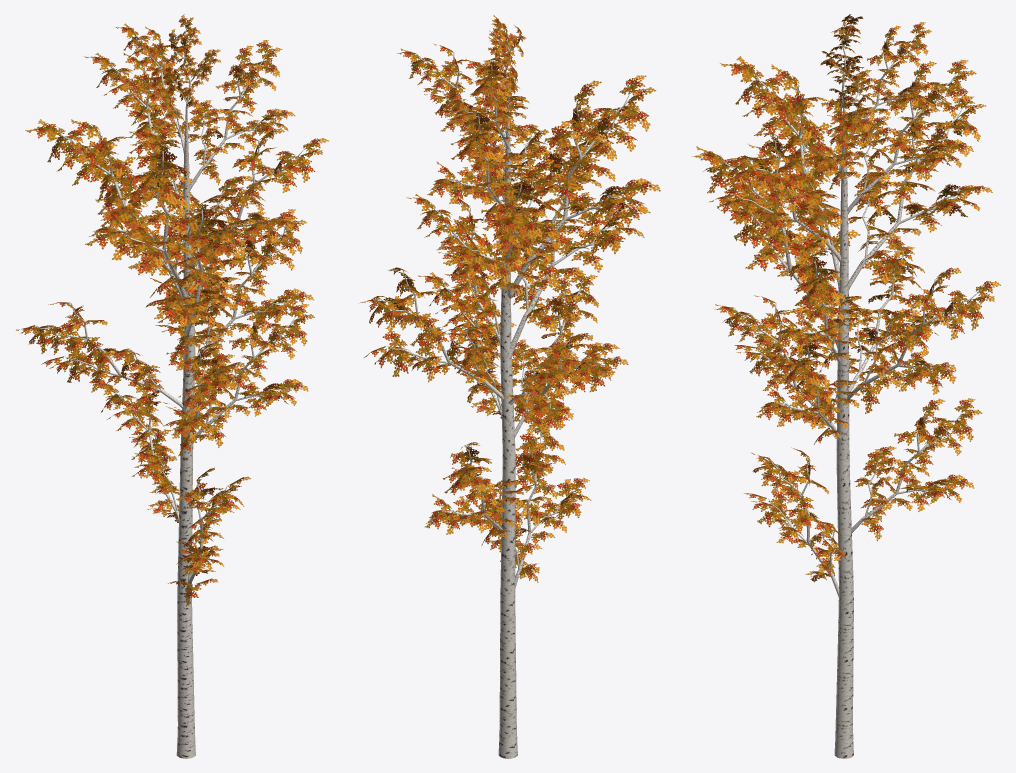
File: Big_Tree.fbx
The picture shows the model from 3 angles, left to right: view 1: azimuth 30°, elevation 25°; view 2: azimuth 150°, elevation 25°; view 3: azimuth 270°, elevation 25°; orthographic projection.
Parts seen in each view (by area): view 1: big_tree; view 2: big_tree; view 3: big_tree.
Part boxes in pixels (x1,y1,x2,y2): big_tree: (16,14,328,758); big_tree: (360,15,660,758); big_tree: (692,14,1000,758).
Size of the model in its own units: 1606 by 4480 by 1699.
